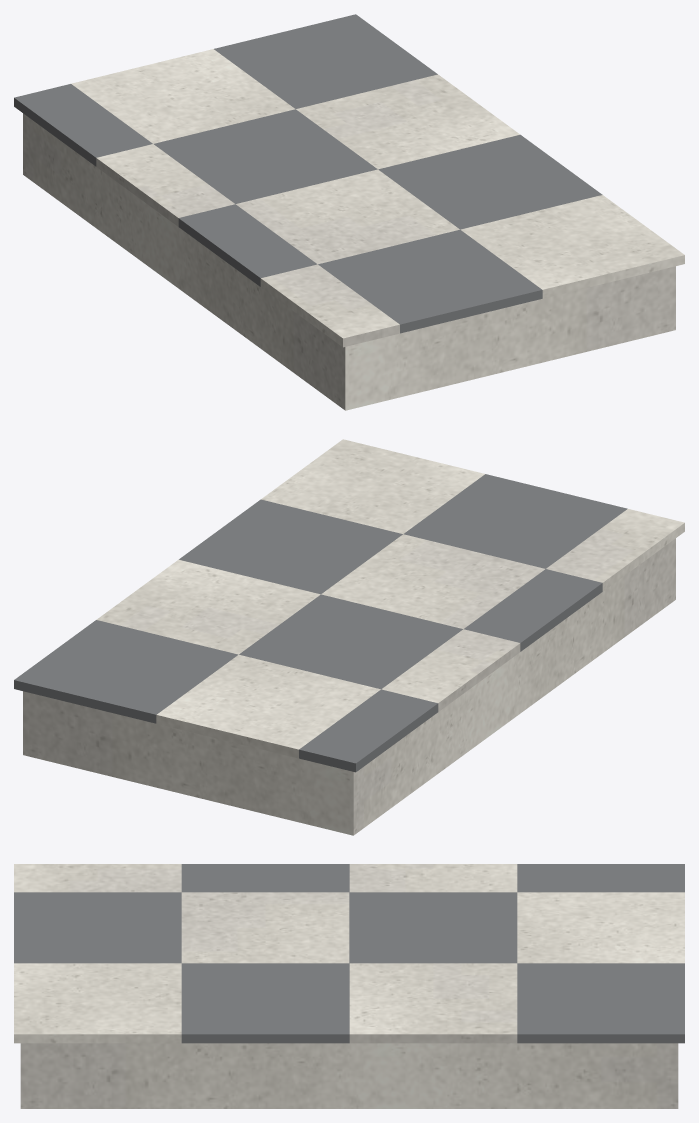
File: floor_marble_u_h3.glb
3 renders of one model, top to bottom at view 1: azimuth 30°, elevation 25°; view 2: azimuth 150°, elevation 25°; view 3: azimuth 270°, elevation 25°, orthographic.
Parts seen in each view (by area): view 1: floor_marble_u_h3_marble, floor_marble_u_h3_slate, floor_marble_u_h3_plaster; view 2: floor_marble_u_h3_slate, floor_marble_u_h3_marble, floor_marble_u_h3_plaster; view 3: floor_marble_u_h3_slate, floor_marble_u_h3_marble, floor_marble_u_h3_plaster.
Part boxes in pixels (<box>): floor_marble_u_h3_marble: <box>71,49,684,347</box>; floor_marble_u_h3_slate: <box>14,14,602,333</box>; floor_marble_u_h3_plaster: <box>23,113,675,410</box>; floor_marble_u_h3_slate: <box>14,474,627,772</box>; floor_marble_u_h3_marble: <box>96,439,684,758</box>; floor_marble_u_h3_plaster: <box>23,538,675,835</box>; floor_marble_u_h3_slate: <box>14,864,684,1043</box>; floor_marble_u_h3_marble: <box>14,864,684,1043</box>; floor_marble_u_h3_plaster: <box>20,1043,678,1108</box>.
Bounding box in the file's own units: 1.2 × 0.255 × 2.
Materials: 3 (2 with a texture image).
